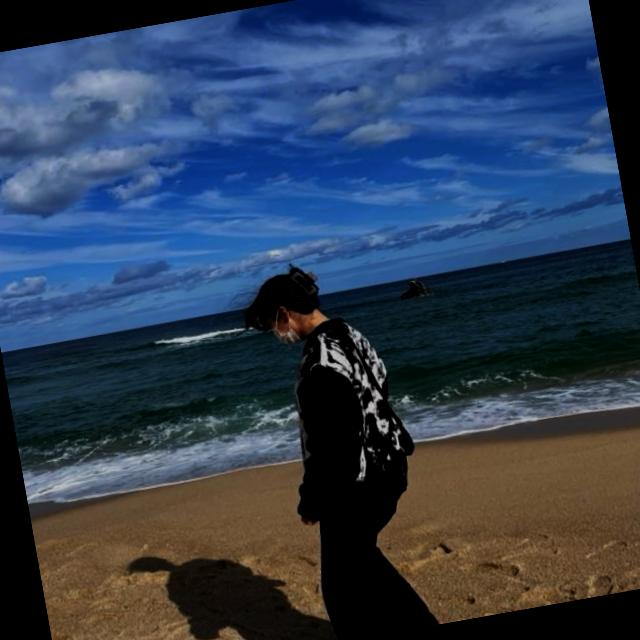cardigan: (266, 305, 414, 524)
denimpants: (301, 457, 436, 640)
